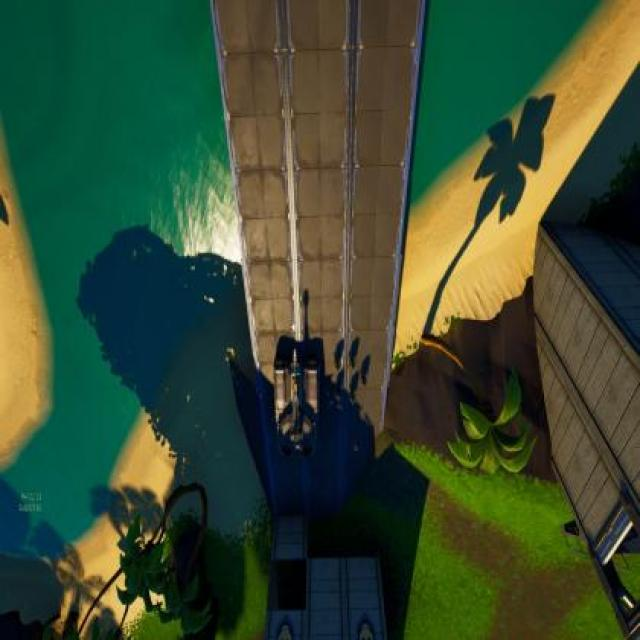tank: (272, 336, 322, 461)
